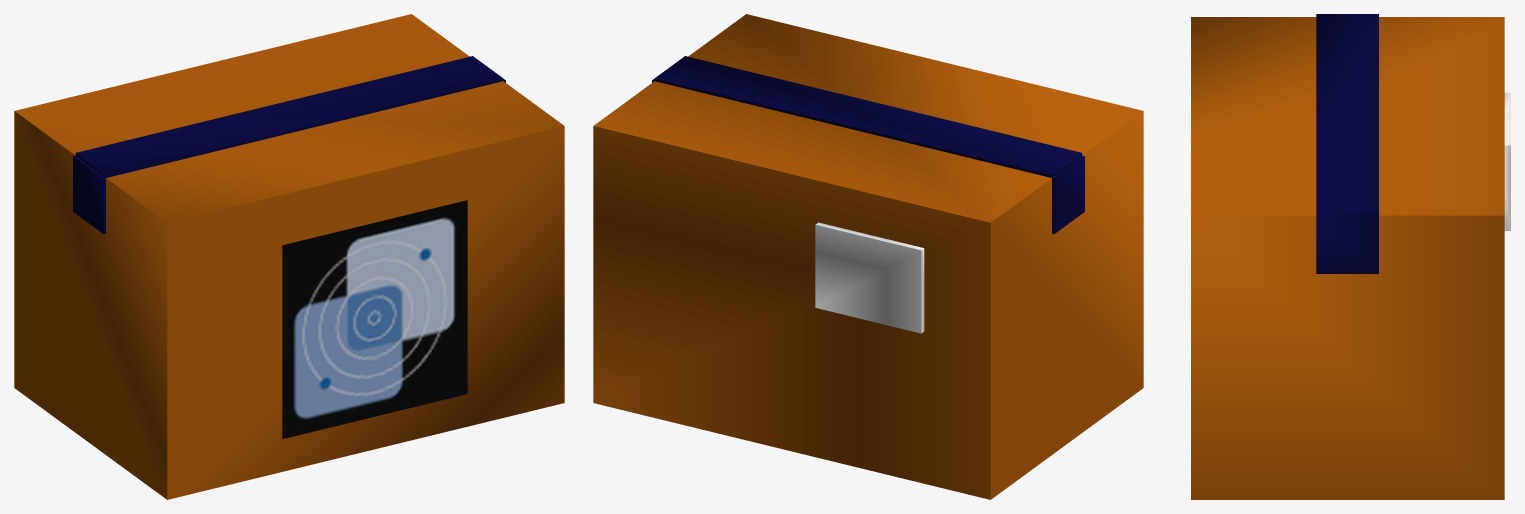
3 renders of one model, left to right at view 1: azimuth 30°, elevation 25°; view 2: azimuth 150°, elevation 25°; view 3: azimuth 270°, elevation 25°, orthographic. The views are drawn at different scales.
Visible parts, largest first — view 1: box0000002, rect, box0000003, box; view 2: box0000002, box0000003, box0000005, box; view 3: box0000002, box0000003, box0000001, box0000005.
Boxes of the visible parts, bbox=[...] form: box0000002: bbox=[14, 14, 564, 499]; rect: bbox=[282, 200, 467, 439]; box0000003: bbox=[75, 56, 503, 177]; box: bbox=[73, 155, 105, 233]; box0000002: bbox=[593, 14, 1143, 499]; box0000003: bbox=[654, 56, 1082, 177]; box0000005: bbox=[815, 222, 924, 333]; box: bbox=[1052, 155, 1084, 233]; box0000002: bbox=[1191, 17, 1504, 499]; box0000003: bbox=[1316, 14, 1378, 215]; box0000001: bbox=[1316, 215, 1378, 273]; box0000005: bbox=[1504, 92, 1510, 230].
Size of the model in its own units: 15.2 by 10.1 by 10.8.
